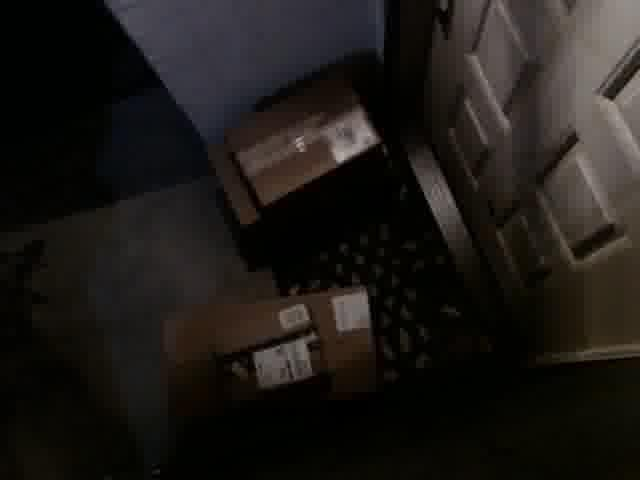box: (159, 282, 377, 457), (203, 68, 378, 275), (232, 87, 388, 211), (183, 300, 331, 412)
